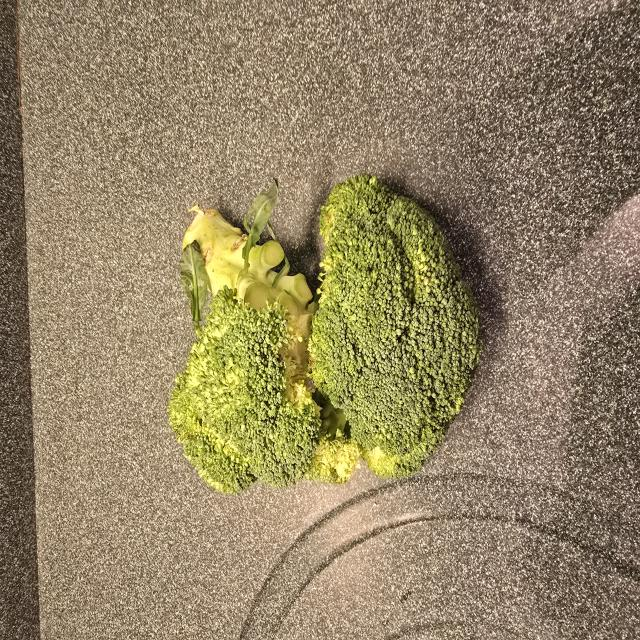Bell Pepper: (166, 176, 480, 500)
